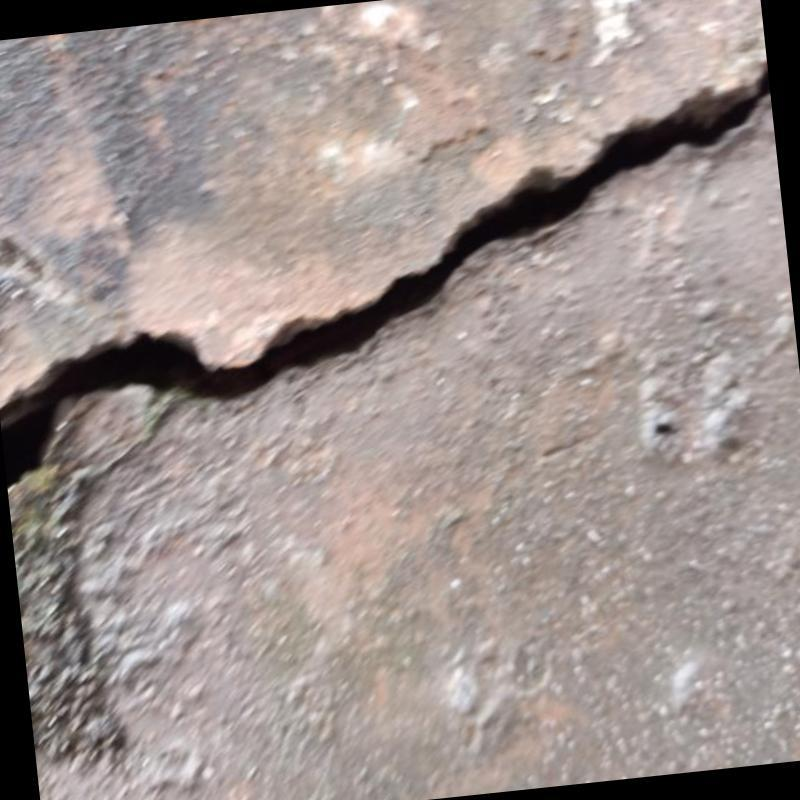pothole: (0, 70, 770, 487)
